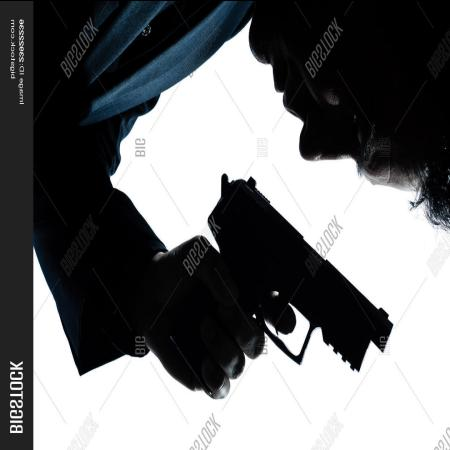Pistol: (156, 172, 392, 386)
